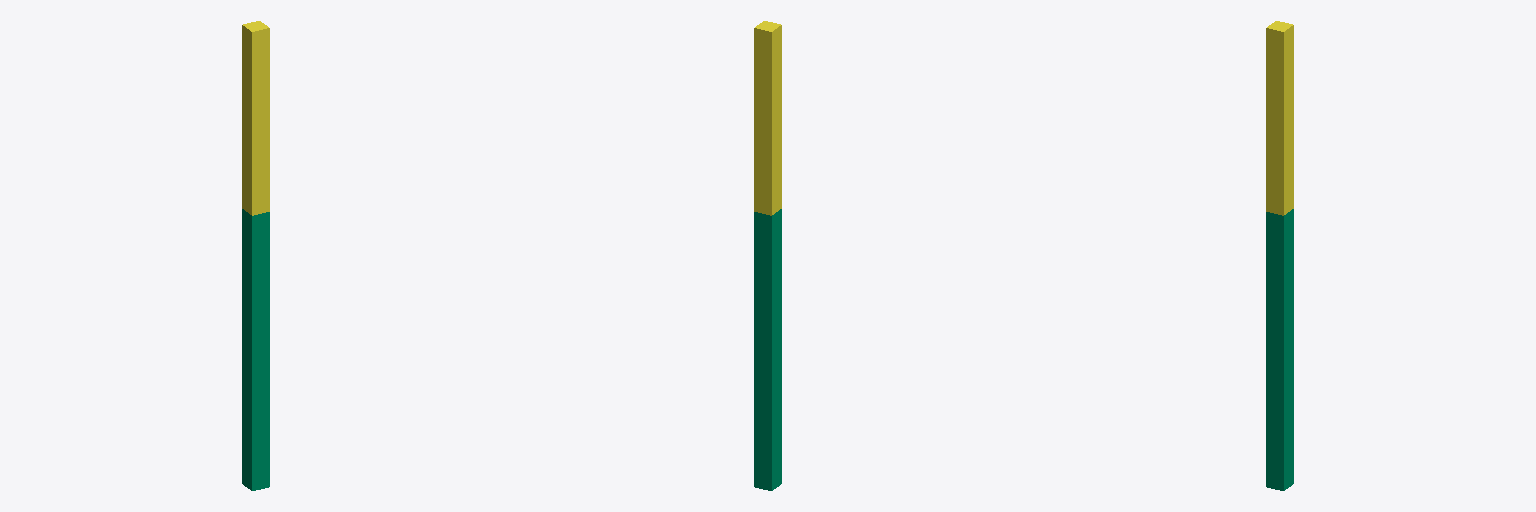
The robot description file, URDF, robot "3dof":
<?xml version="1.0" ?>
<robot name="3dof" >

<link name="tool0"/>

<link name="base_link" />

<link name="link_1">
  <visual>
    <origin xyz="0 0 0.75" rpy="0 0 0"/>
    <geometry>
      <box size="0.1 0.1 1.5"/>
    </geometry>
  </visual>
</link>

<link name="link_2">
  <visual>
    <origin xyz="0 0 0.5" rpy="0 0 0"/>
    <geometry>
      <box size="0.1 0.1 1.0"/>
    </geometry>
  </visual>
</link>

  <joint name="joint_1" type="revolute">
    <parent link="base_link" />
    <child link="link_1" />
    <limit effort="30" velocity="1.0" lower="-3.14" upper="3.14" />
    <origin xyz="0 0 0" rpy="0 0 0" />
    <axis xyz="0 0 1" />
  </joint>
	
  <joint name="joint_2" type="revolute">
    <parent link="link_1" />
    <child link="link_2" />
    <limit effort="30" velocity="1.0" lower="-3.14" upper="3.14" />
    <origin xyz="0 0 1.5" rpy="0 0 0" />
    <axis xyz="0 1 0" />
  </joint>


<joint name="joint_3-tool0" type="revolute">
    <parent link="link_2" />
    <child link="tool0" />
    <limit effort="30" velocity="1.0" lower="-6.28318" upper="6.28318" />
    <origin xyz="0 0 1.0" rpy="0 0 0" />
    <axis xyz="0 0 1" />
  </joint>

</robot>

--- What the picture shows (computed from the rendered views, not written in the file) ---
The picture shows the robot from 3 angles, left to right: view 1: azimuth 30°, elevation 25°; view 2: azimuth 150°, elevation 25°; view 3: azimuth 330°, elevation 25°; orthographic projection.
Robot: 3dof — 4 links, 3 joints (3 revolute); root link base_link; default pose: all joints at 0.
Links seen in each view (by area): view 1: link_1, link_2; view 2: link_1, link_2; view 3: link_1, link_2.
Link boxes in pixels (box(x1,y1,x2,y2)): link_1: box(242, 209, 269, 490); link_2: box(242, 21, 269, 215); link_1: box(754, 209, 781, 490); link_2: box(754, 21, 781, 215); link_1: box(1266, 209, 1293, 490); link_2: box(1266, 21, 1293, 215).
Size in the robot's own frame: 0.1 by 0.1 by 2.5 metres.
Geometry: primitives only (box / cylinder / sphere), no mesh files.